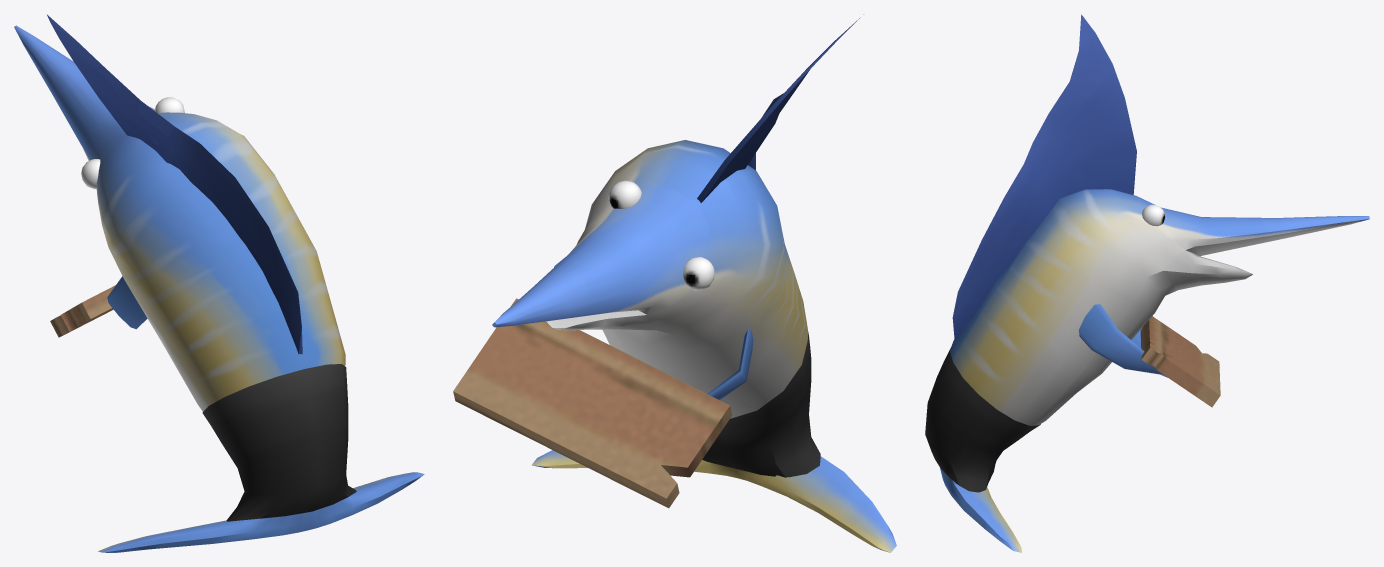
The model's file is kajiki_walk_c_02.fbx.
3 renders of one model, left to right at view 1: azimuth 30°, elevation 25°; view 2: azimuth 150°, elevation 25°; view 3: azimuth 270°, elevation 25°, orthographic. The views are drawn at different scales.
Visible parts, largest first — view 1: W_c_02; view 2: W_c_02; view 3: W_c_02.
Boxes of the visible parts, left/top/right/bottom form: W_c_02: left=14, top=14, right=424, bottom=552; W_c_02: left=453, top=14, right=896, bottom=552; W_c_02: left=925, top=14, right=1369, bottom=552.
Size of the model in its own units: 1.52 by 2.22 by 2.19.
Materials: 1 (1 with a texture image).
